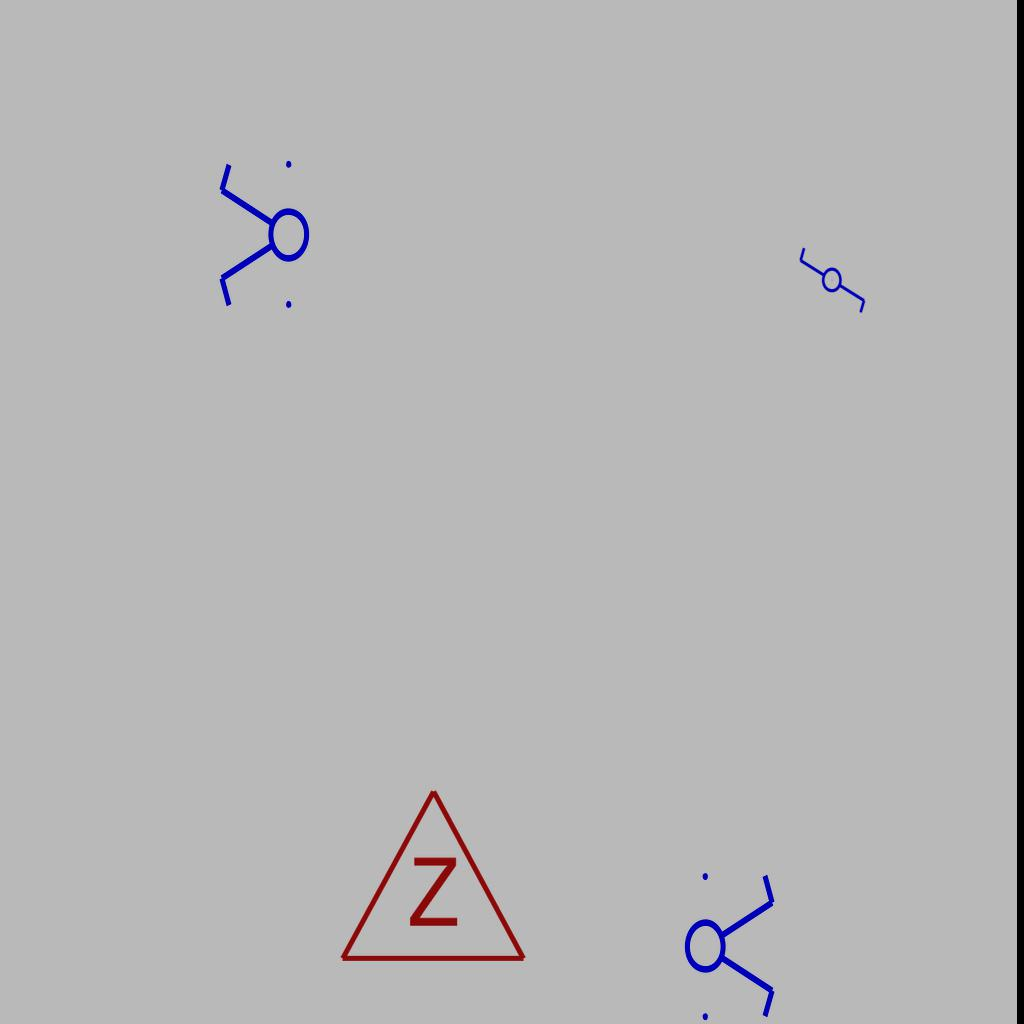Serienschalter: (215, 152, 311, 320), (683, 861, 779, 1024)
Wechselschalter: (797, 237, 869, 315)
Zimmersignalleuchte: (333, 776, 529, 976)
